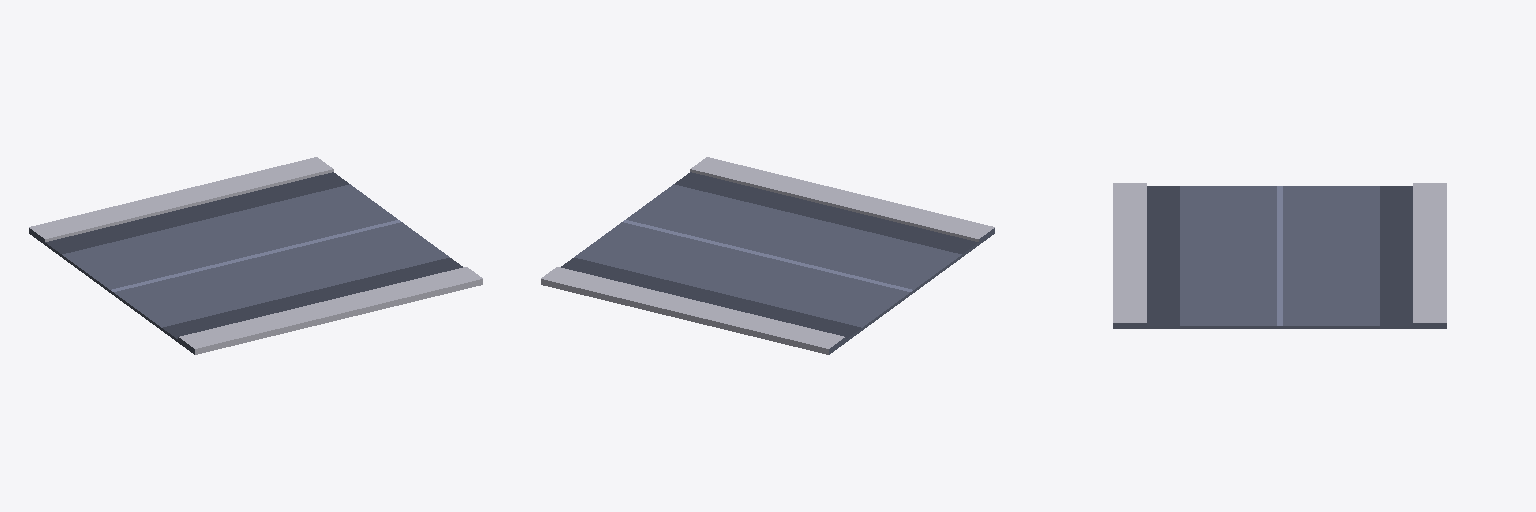
The model's file is city_road.obj.
3 views of the same model, side by side, from view 1: azimuth 30°, elevation 25°; view 2: azimuth 150°, elevation 25°; view 3: azimuth 270°, elevation 25° (orthographic).
Visible parts, largest first — view 1: mergedBlocks; view 2: mergedBlocks; view 3: mergedBlocks.
Part boxes in pixels (x1,y1,x2,y2): mergedBlocks: (29, 157, 482, 354); mergedBlocks: (541, 157, 994, 354); mergedBlocks: (1113, 183, 1446, 328).
Bounding box in the file's own units: 1 × 0.02 × 1.